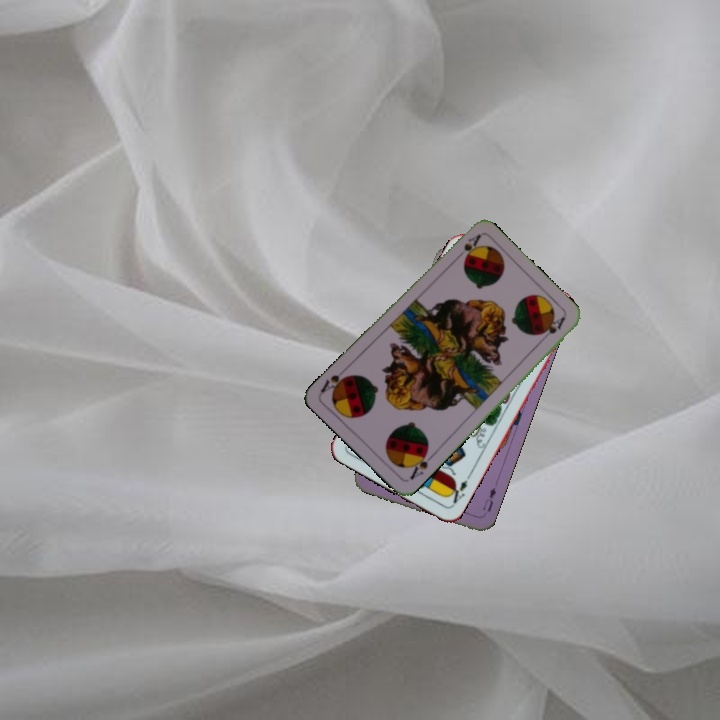EA: (444, 471, 473, 509)
EU: (479, 483, 499, 514)
SA: (405, 445, 437, 482), (451, 231, 483, 263)
